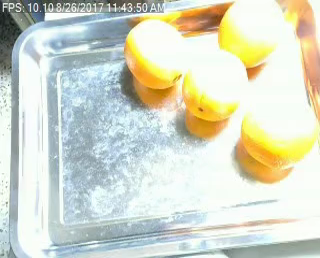Orange: (241, 93, 319, 169), (216, 1, 285, 71), (181, 50, 249, 120), (125, 18, 188, 88)
